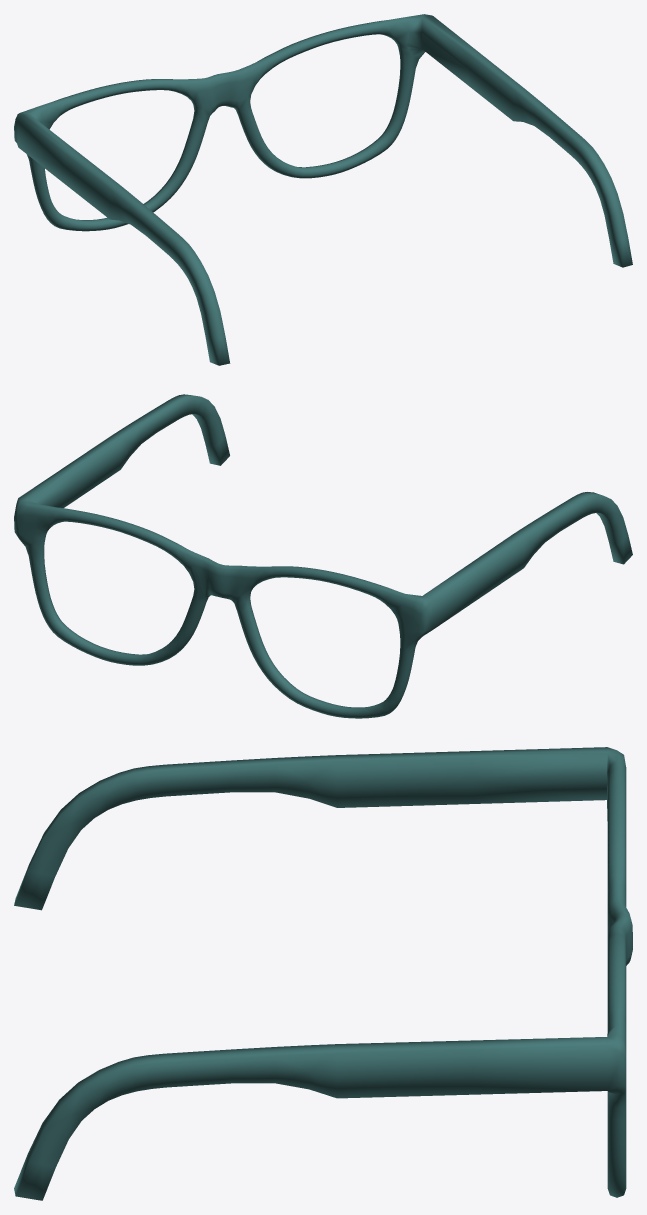
The model's file is BlueF4.fbx.
3 renders of one model, top to bottom at view 1: azimuth 30°, elevation 25°; view 2: azimuth 150°, elevation 25°; view 3: azimuth 270°, elevation 25°, orthographic. The views are drawn at different scales.
Parts seen in each view (by area): view 1: Glasses; view 2: Glasses; view 3: Glasses.
Boxes of the visible parts, bbox=[...] form: Glasses: bbox=[14, 14, 632, 365]; Glasses: bbox=[14, 394, 632, 718]; Glasses: bbox=[14, 747, 632, 1200].
Bounding box in the file's own units: 14.96 × 4.91 × 13.1.
